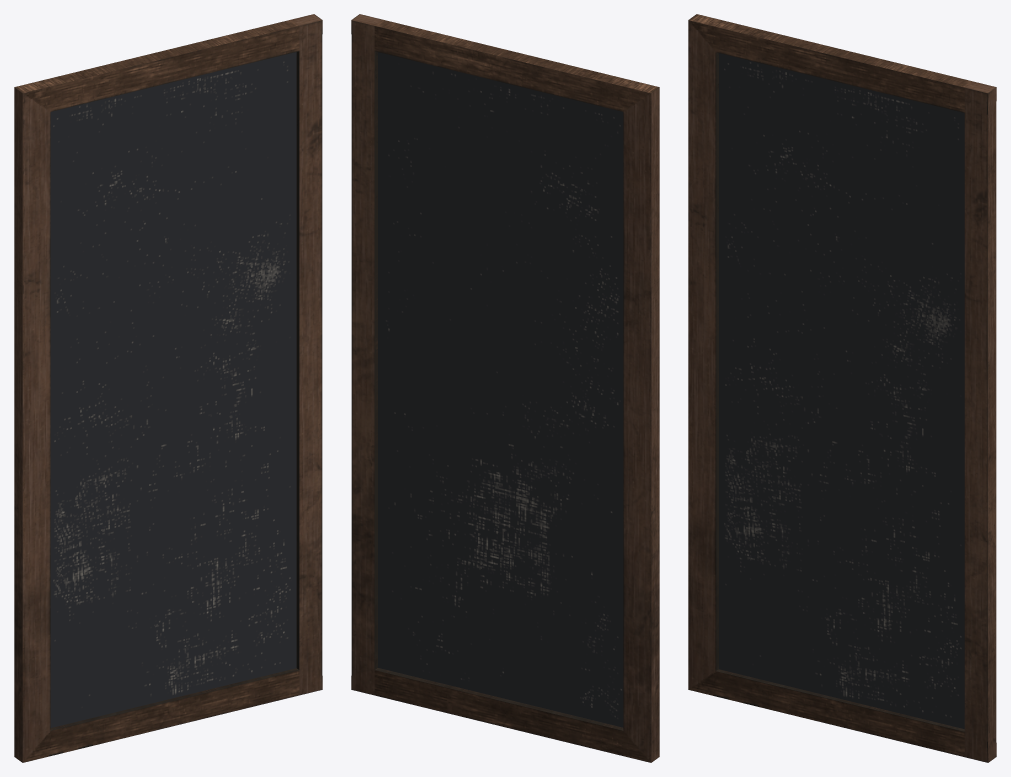
Rendered from Bookshelf_Door_R.fbx.
The picture shows the model from 3 angles, left to right: view 1: azimuth 30°, elevation 25°; view 2: azimuth 150°, elevation 25°; view 3: azimuth 330°, elevation 25°; orthographic projection.
Visible parts, largest first — view 1: Door_R; view 2: Door_R; view 3: Door_R.
Part boxes in pixels (x1,y1,x2,y2): Door_R: (14, 14, 322, 762); Door_R: (351, 14, 659, 762); Door_R: (688, 14, 996, 762).
Bounding box in the file's own units: 338 × 721 × 16.63.
Materials: 1 (1 with a texture image).
